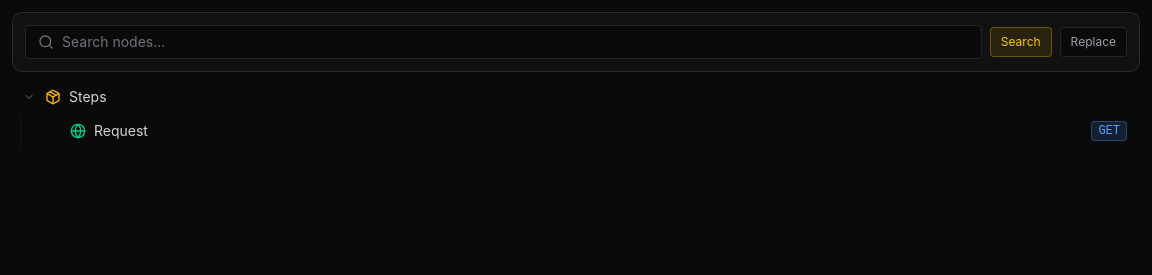
Test: YAMLTreeView replacement › uses the same case-insensitive matching as tree search
The width and height of the screenshot is (1152, 275).
Type "token" into the field with placeholder "Search nodes...".
click(515, 42); type("token")  # box [62,32,969,52]
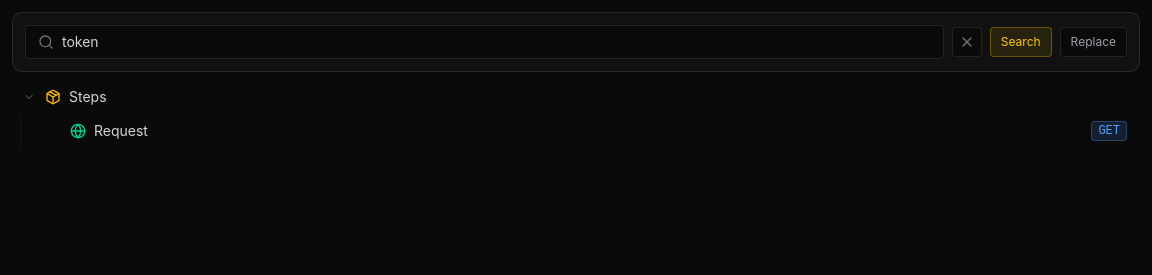
Click the button with aria-label "Search tree".
click(1021, 42)  # box [990,27,1052,57]
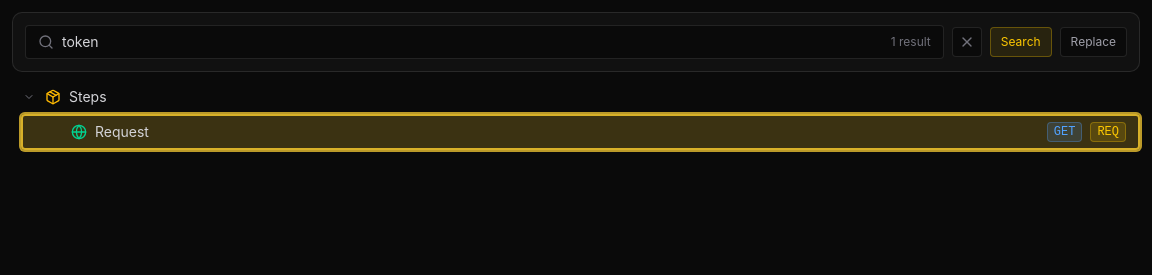
Click the button "Replace".
click(1093, 42)  # box [1060,27,1127,57]
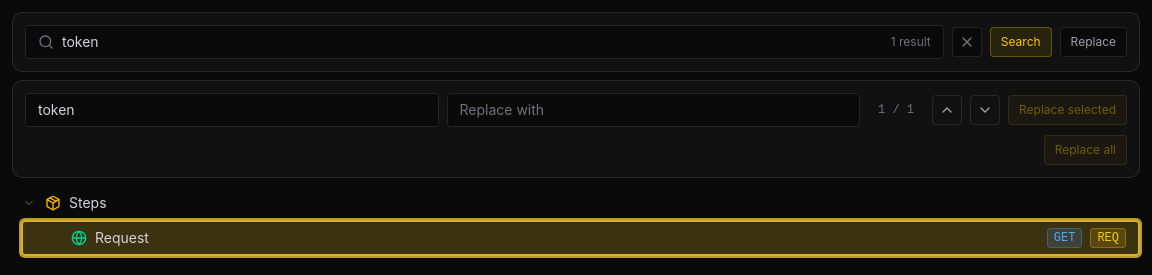
Now the field named "Find text to replace" holds "token", box [25,93,438,127]
Type "token1" into the field named "Replacement text".
click(653, 110); type("token1")  # box [446,93,860,127]
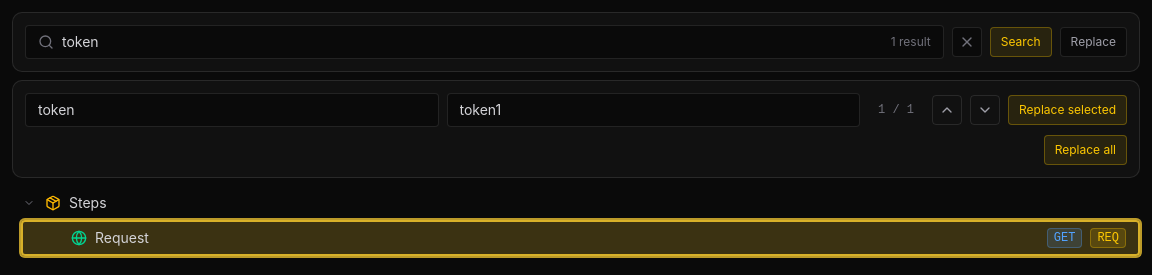
Now the text named "Replace match position" reads "1 / 1", box [878,103,914,117]
Click the button "Replace all".
click(1085, 150)  # box [1044,135,1127,165]
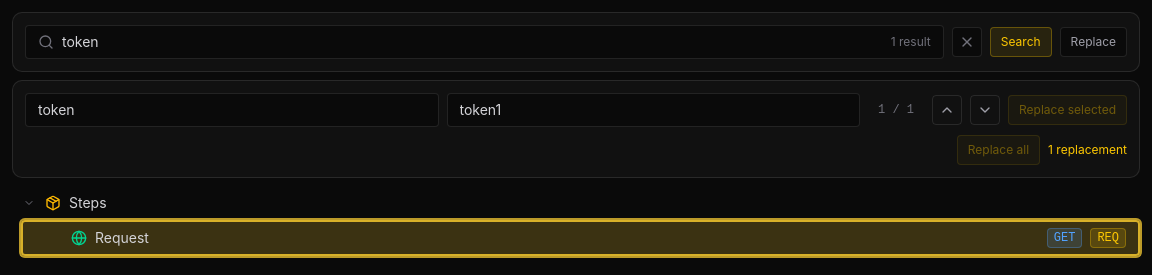
Now the text "1 replacement" is shown, box [1048,142,1127,158]
